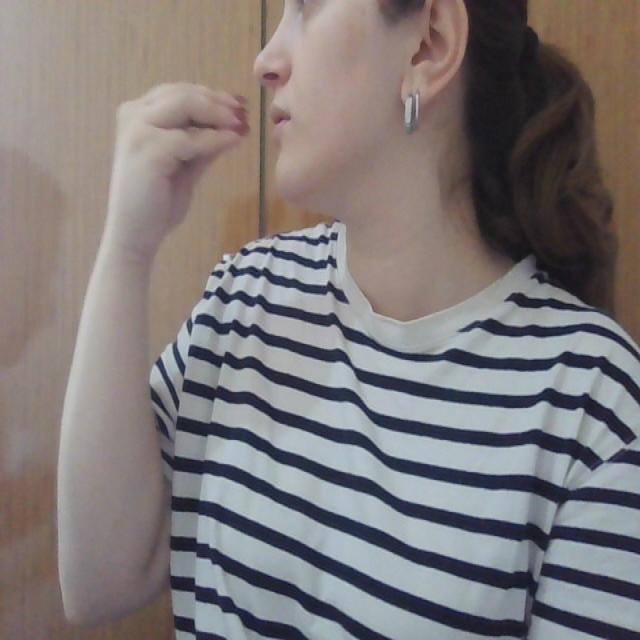Yemek: (91, 67, 314, 167)
